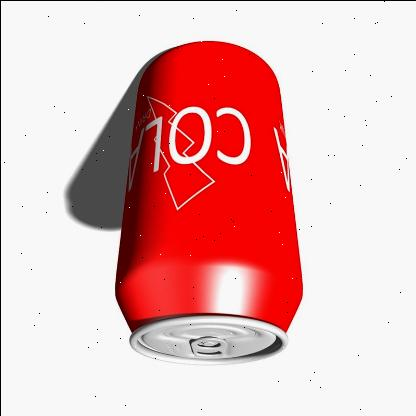Can: (115, 41, 301, 362)
